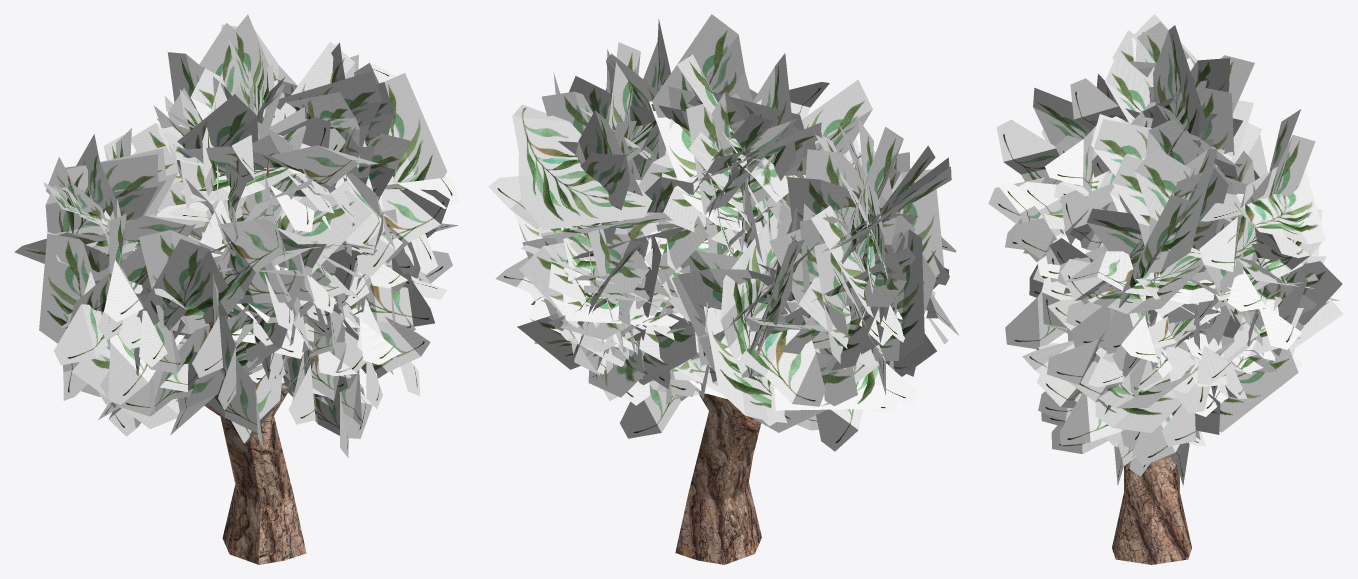
Rendered from trees.fbx.
3 views of the same model, side by side, from view 1: azimuth 30°, elevation 25°; view 2: azimuth 150°, elevation 25°; view 3: azimuth 270°, elevation 25° (orthographic). The views are drawn at different scales.
Visible parts, largest first — view 1: Plane.001, Cube; view 2: Plane.001, Cube; view 3: Plane.001, Cube.
Boxes of the visible parts, bbox=[...] form: Plane.001: bbox=[14, 14, 459, 457]; Cube: bbox=[204, 160, 311, 564]; Plane.001: bbox=[488, 14, 959, 451]; Cube: bbox=[579, 159, 761, 564]; Plane.001: bbox=[988, 14, 1343, 485]; Cube: bbox=[1112, 198, 1256, 564].
Size of the model in its own units: 5959 by 7339 by 4537.
